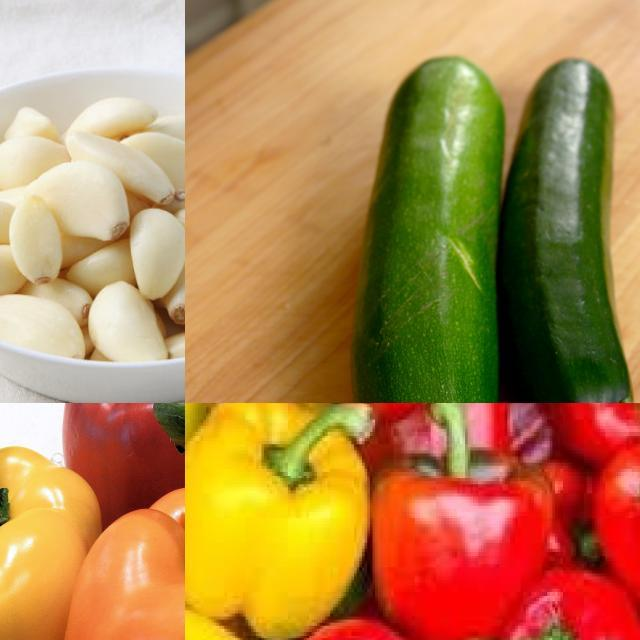bell_pepper: (365, 404, 545, 640), (186, 404, 372, 632), (59, 404, 186, 640), (1, 404, 100, 640), (49, 404, 186, 571), (481, 562, 640, 640)
garlic: (1, 99, 186, 371)
zucchini: (354, 49, 550, 404)
